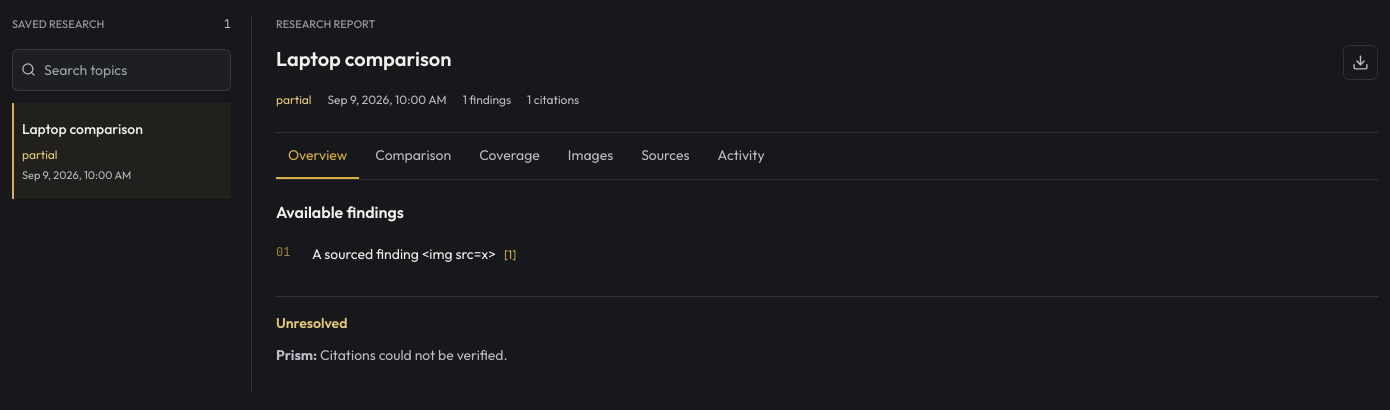
Scenario: saved research reports › reopens saved findings safely with citations and unresolved outcomes
Expected: the link to "https://example.com/review" is shown, [504,246,516,262]
Click the tab "Sources": (665, 156) [629,132,702,178]
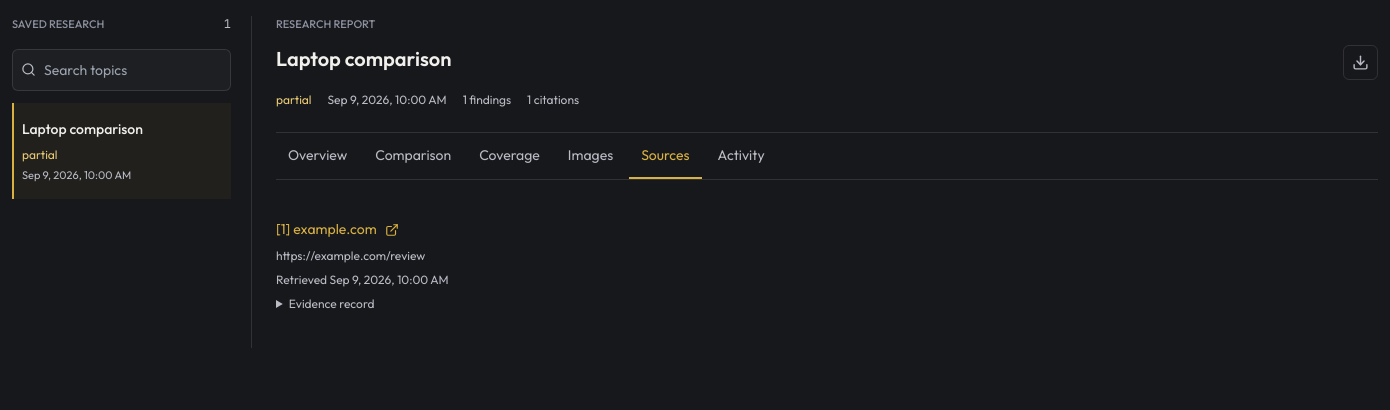
Expected: the text "Evidence record" is shown, [289,296,374,310]
